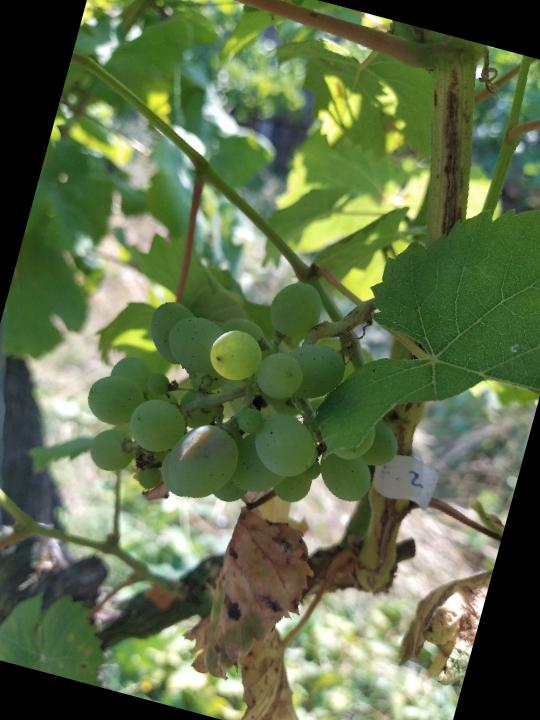grape: (63, 232, 438, 552)
